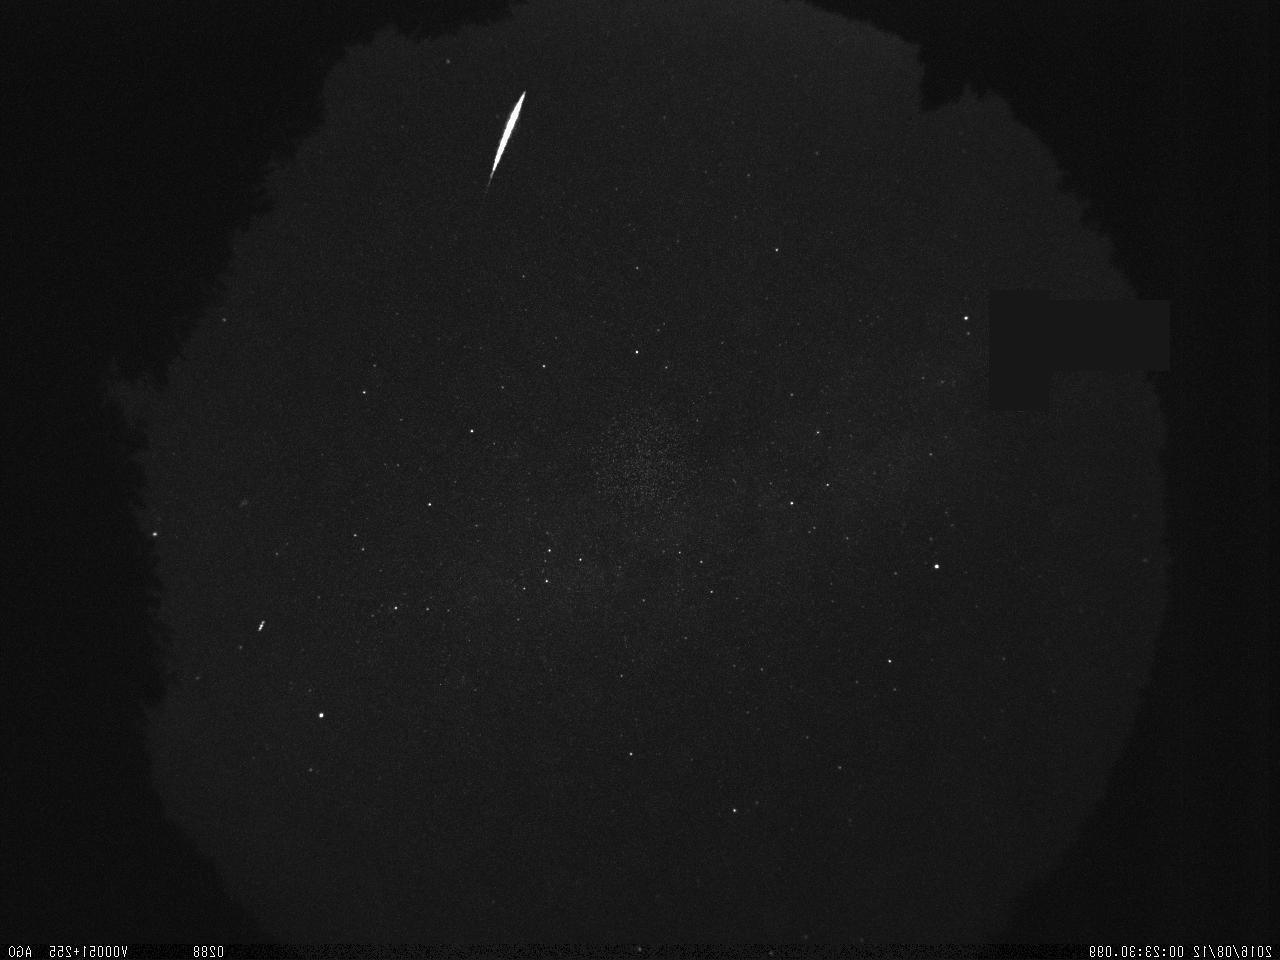meteor: (477, 81, 533, 196)
